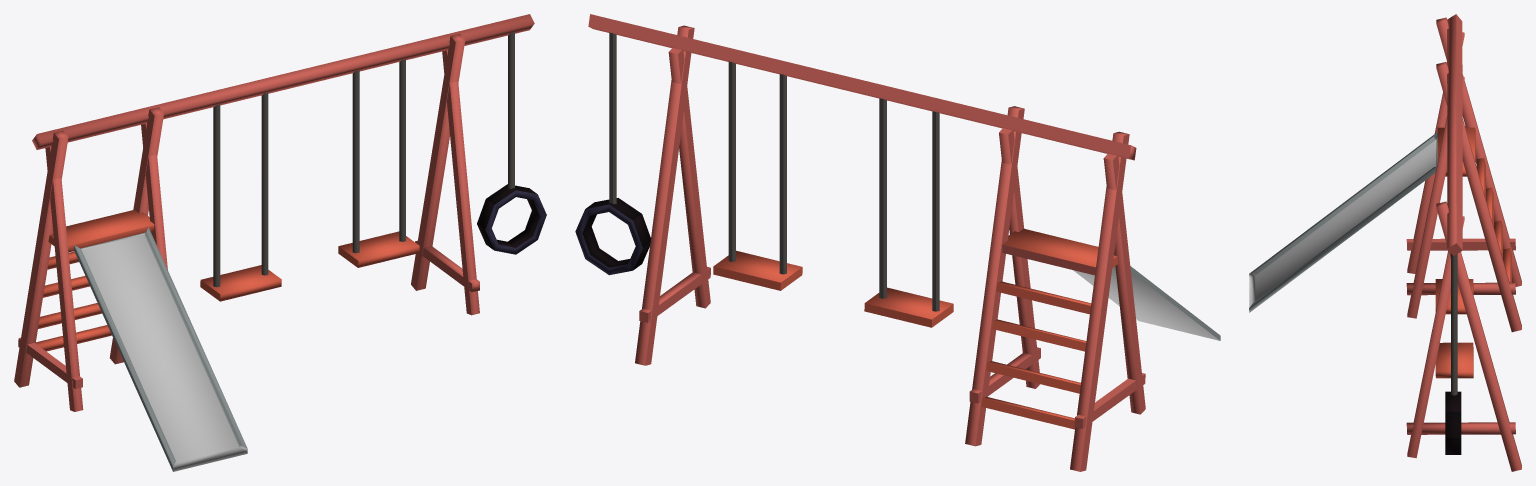
File: playground.glb
3 renders of one model, left to right at view 1: azimuth 30°, elevation 25°; view 2: azimuth 150°, elevation 25°; view 3: azimuth 270°, elevation 25°, orthographic. The views are drawn at different scales.
Size of the model in its own units: 11.79 by 6.24 by 5.8.
Materials: 1 (1 with a texture image).
